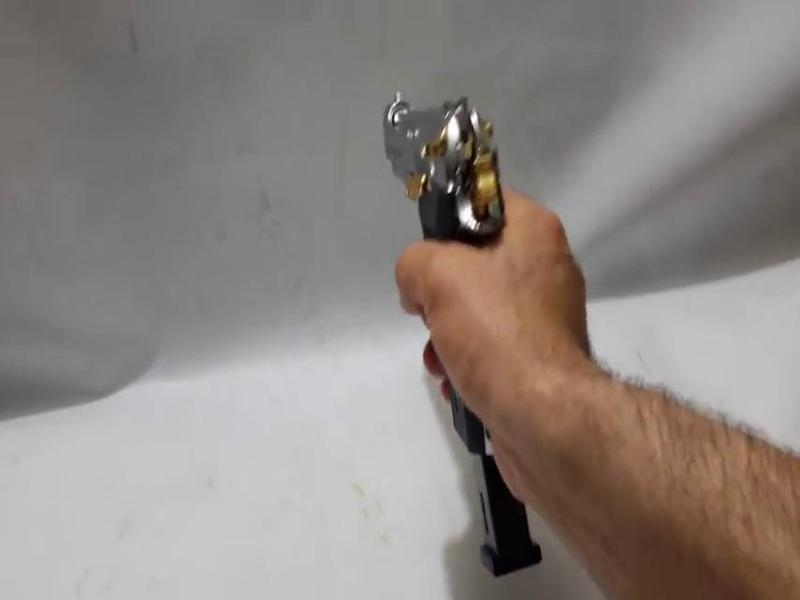Pistola: (326, 59, 536, 468)
